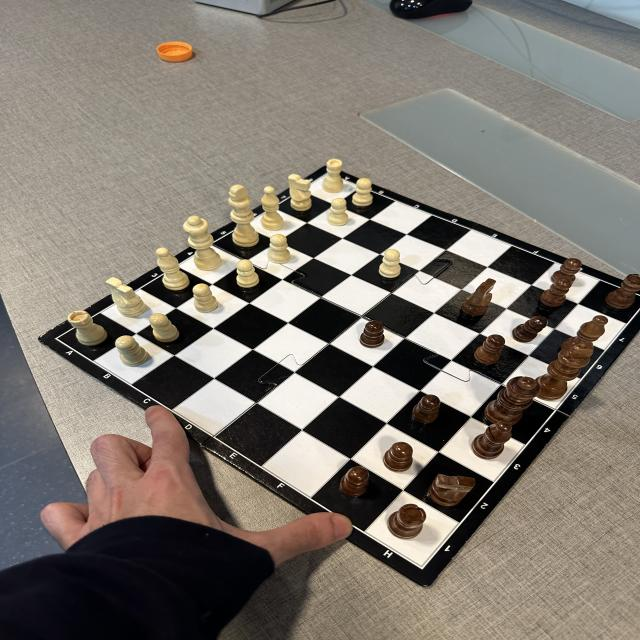Black-Bishop: (561, 315, 608, 352), (470, 420, 513, 460)
Black-King: (535, 344, 595, 402)
Black-Knight: (428, 474, 475, 506), (460, 278, 497, 316)
Black-Pawn: (382, 441, 413, 473), (339, 466, 370, 498), (539, 278, 572, 307), (512, 316, 548, 342), (474, 335, 505, 365), (412, 394, 441, 424), (551, 258, 582, 284), (359, 321, 385, 348)
Black-Queen: (484, 375, 542, 426)
Black-Rook: (386, 504, 426, 540), (605, 274, 640, 310)
White-Bishop: (156, 247, 190, 291), (260, 186, 284, 231)
White-King: (228, 185, 260, 248)
White-Knight: (105, 277, 146, 317), (288, 174, 311, 212)
White-Pawn: (115, 335, 148, 367), (149, 313, 180, 343), (192, 283, 219, 313), (267, 234, 291, 264), (236, 259, 260, 288), (378, 249, 401, 278), (352, 178, 374, 206), (327, 198, 348, 226)
White-Queen: (182, 216, 222, 270)
White-Rook: (68, 310, 108, 346), (322, 159, 343, 193)
